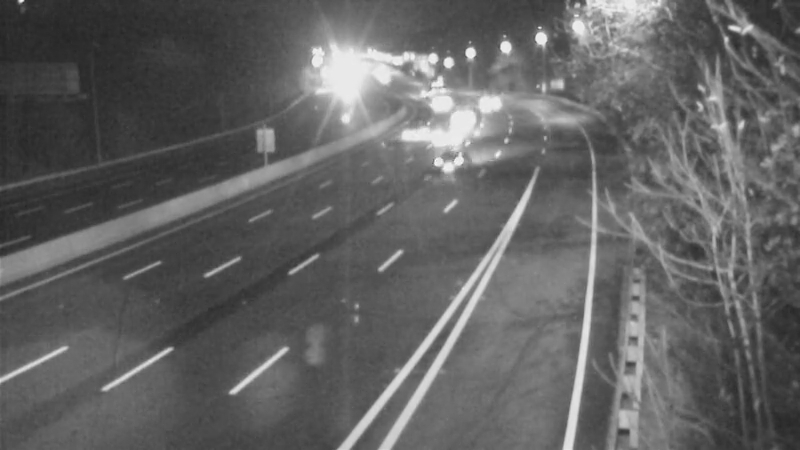vehicle: (409, 125, 489, 205), (413, 74, 463, 124), (461, 78, 511, 128), (430, 93, 480, 143), (384, 109, 434, 159), (421, 111, 471, 161)
